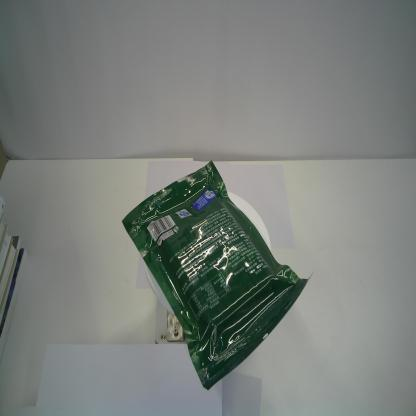Dried Food: (121, 157, 313, 391)
